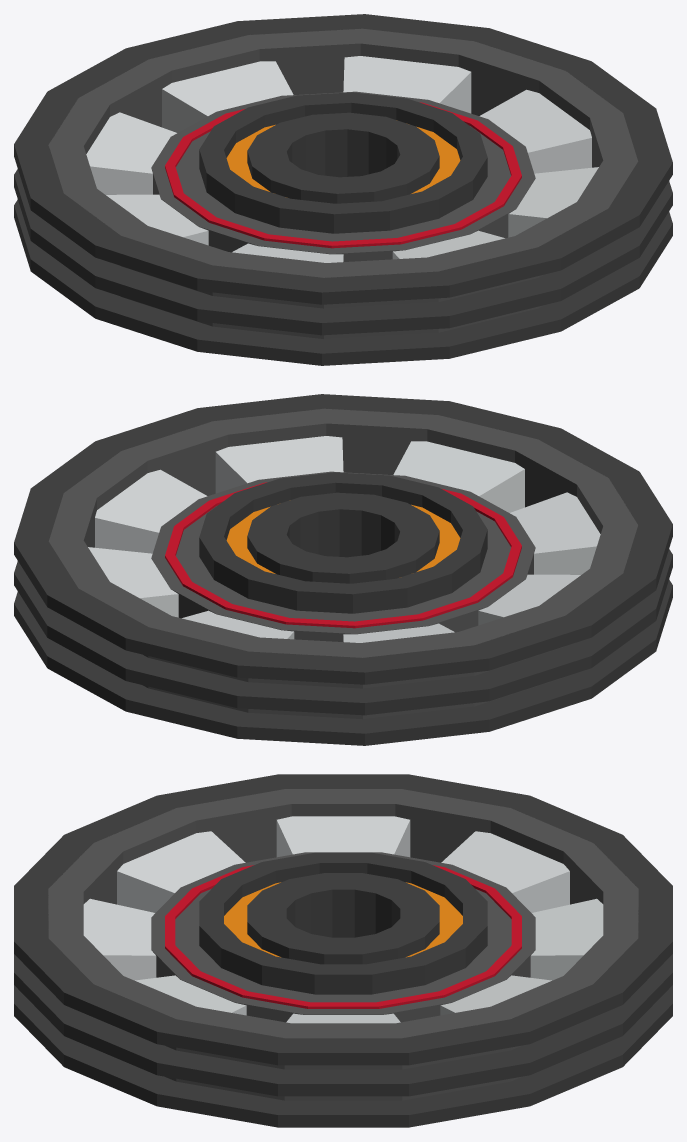
The model's file is flying_wheel_3.obj.
3 views of the same model, one above another, from view 1: azimuth 30°, elevation 25°; view 2: azimuth 150°, elevation 25°; view 3: azimuth 270°, elevation 25° (orthographic).
Visible parts, largest first — view 1: 7, 6, 5, 3, 4, 2, 8, d, a, 9, b, s (+5 smaller); view 2: 7, 6, 5, 3, 4, 2, 8, d, e, 9, x, f (+5 smaller); view 3: 7, 6, 3, 5, 4, 2, 8, b, x, 9, c, a (+5 smaller).
Boxes of the visible parts, <box> form: 7: <box>48,28,638,339</box>; 6: <box>14,14,672,304</box>; 5: <box>14,169,672,335</box>; 3: <box>14,199,672,365</box>; 4: <box>199,92,487,233</box>; 2: <box>247,112,439,203</box>; 8: <box>151,91,535,261</box>; d: <box>479,89,591,173</box>; a: <box>162,61,293,132</box>; 9: <box>165,102,521,248</box>; b: <box>86,112,176,194</box>; s: <box>343,56,471,113</box>; 7: <box>48,408,637,719</box>; 6: <box>14,394,672,684</box>; 5: <box>14,549,672,715</box>; 3: <box>14,579,672,745</box>; 4: <box>199,472,487,613</box>; 2: <box>247,492,439,583</box>; 8: <box>151,471,535,641</box>; d: <box>95,469,207,553</box>; e: <box>393,441,524,512</box>; 9: <box>165,482,521,628</box>; x: <box>510,492,600,574</box>; f: <box>215,436,343,493</box>; 7: <box>48,789,638,1100</box>; 6: <box>14,774,672,1065</box>; 3: <box>14,985,672,1127</box>; 5: <box>14,954,672,1096</box>; 4: <box>199,852,487,994</box>; 2: <box>247,873,439,964</box>; 8: <box>151,852,535,1022</box>; b: <box>441,831,569,912</box>; x: <box>117,831,245,912</box>; 9: <box>165,865,521,1008</box>; c: <box>276,816,410,857</box>; a: <box>530,898,603,980</box>.
Size of the model in its own units: 1.5 by 0.1875 by 1.5.
